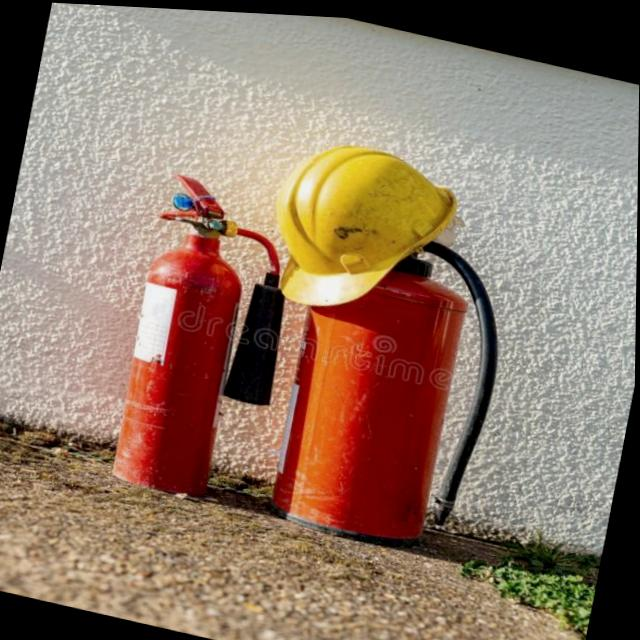FireExtinguisher: (246, 177, 539, 569), (89, 161, 318, 519)
